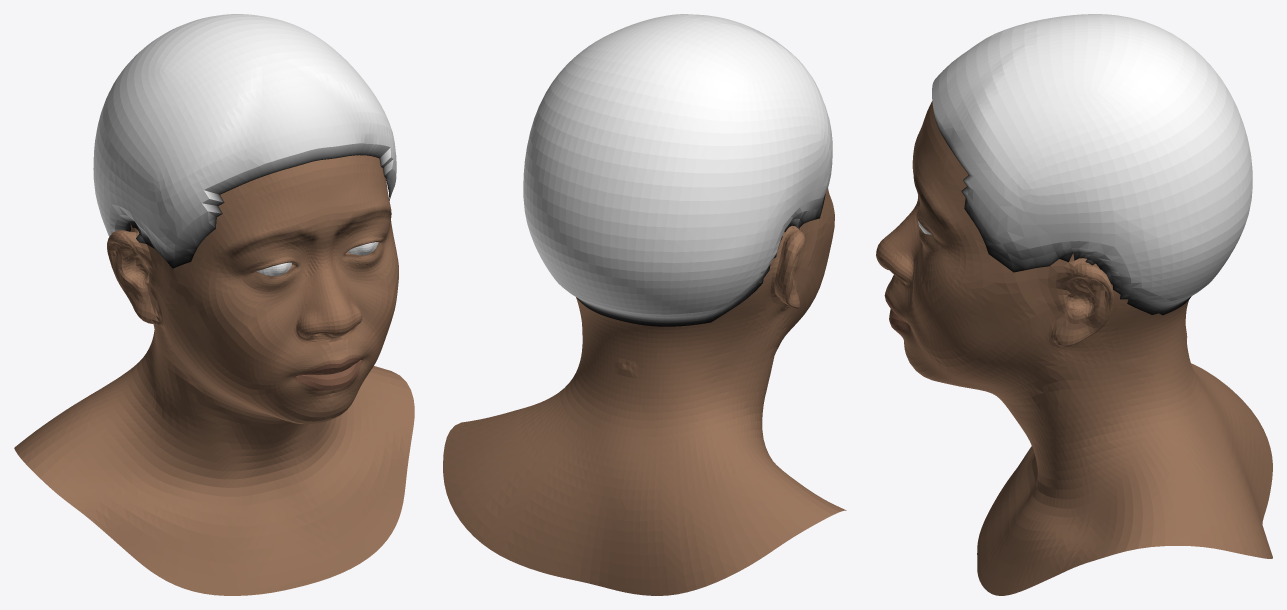
Rendered from rinku.glb.
The picture shows the model from 3 angles, left to right: view 1: azimuth 30°, elevation 25°; view 2: azimuth 150°, elevation 25°; view 3: azimuth 270°, elevation 25°; orthographic projection. The views are drawn at different scales.
Visible parts, largest first — view 1: gnm_head; view 2: gnm_head; view 3: gnm_head.
Part boxes in pixels (bbox=[...]): gnm_head: bbox=[14, 14, 414, 595]; gnm_head: bbox=[443, 14, 846, 595]; gnm_head: bbox=[876, 14, 1272, 595].
Size of the model in its own units: 0.2567 by 0.3388 by 0.2293.
